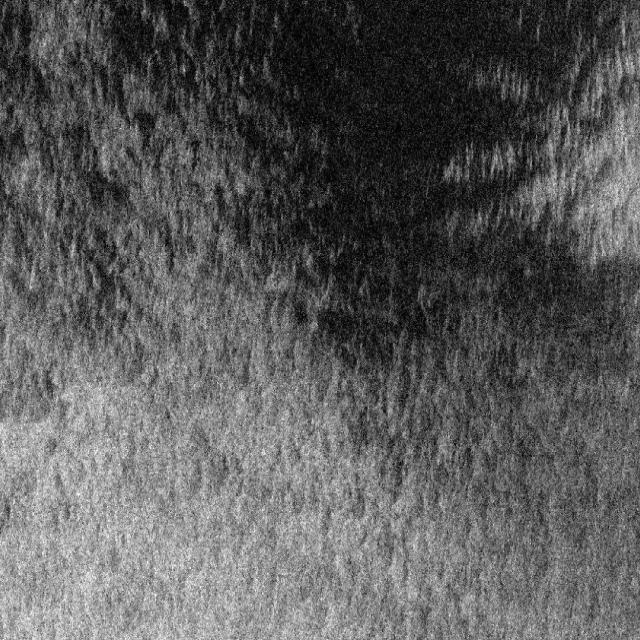look-alike: (164, 1, 613, 380), (3, 25, 141, 365)
